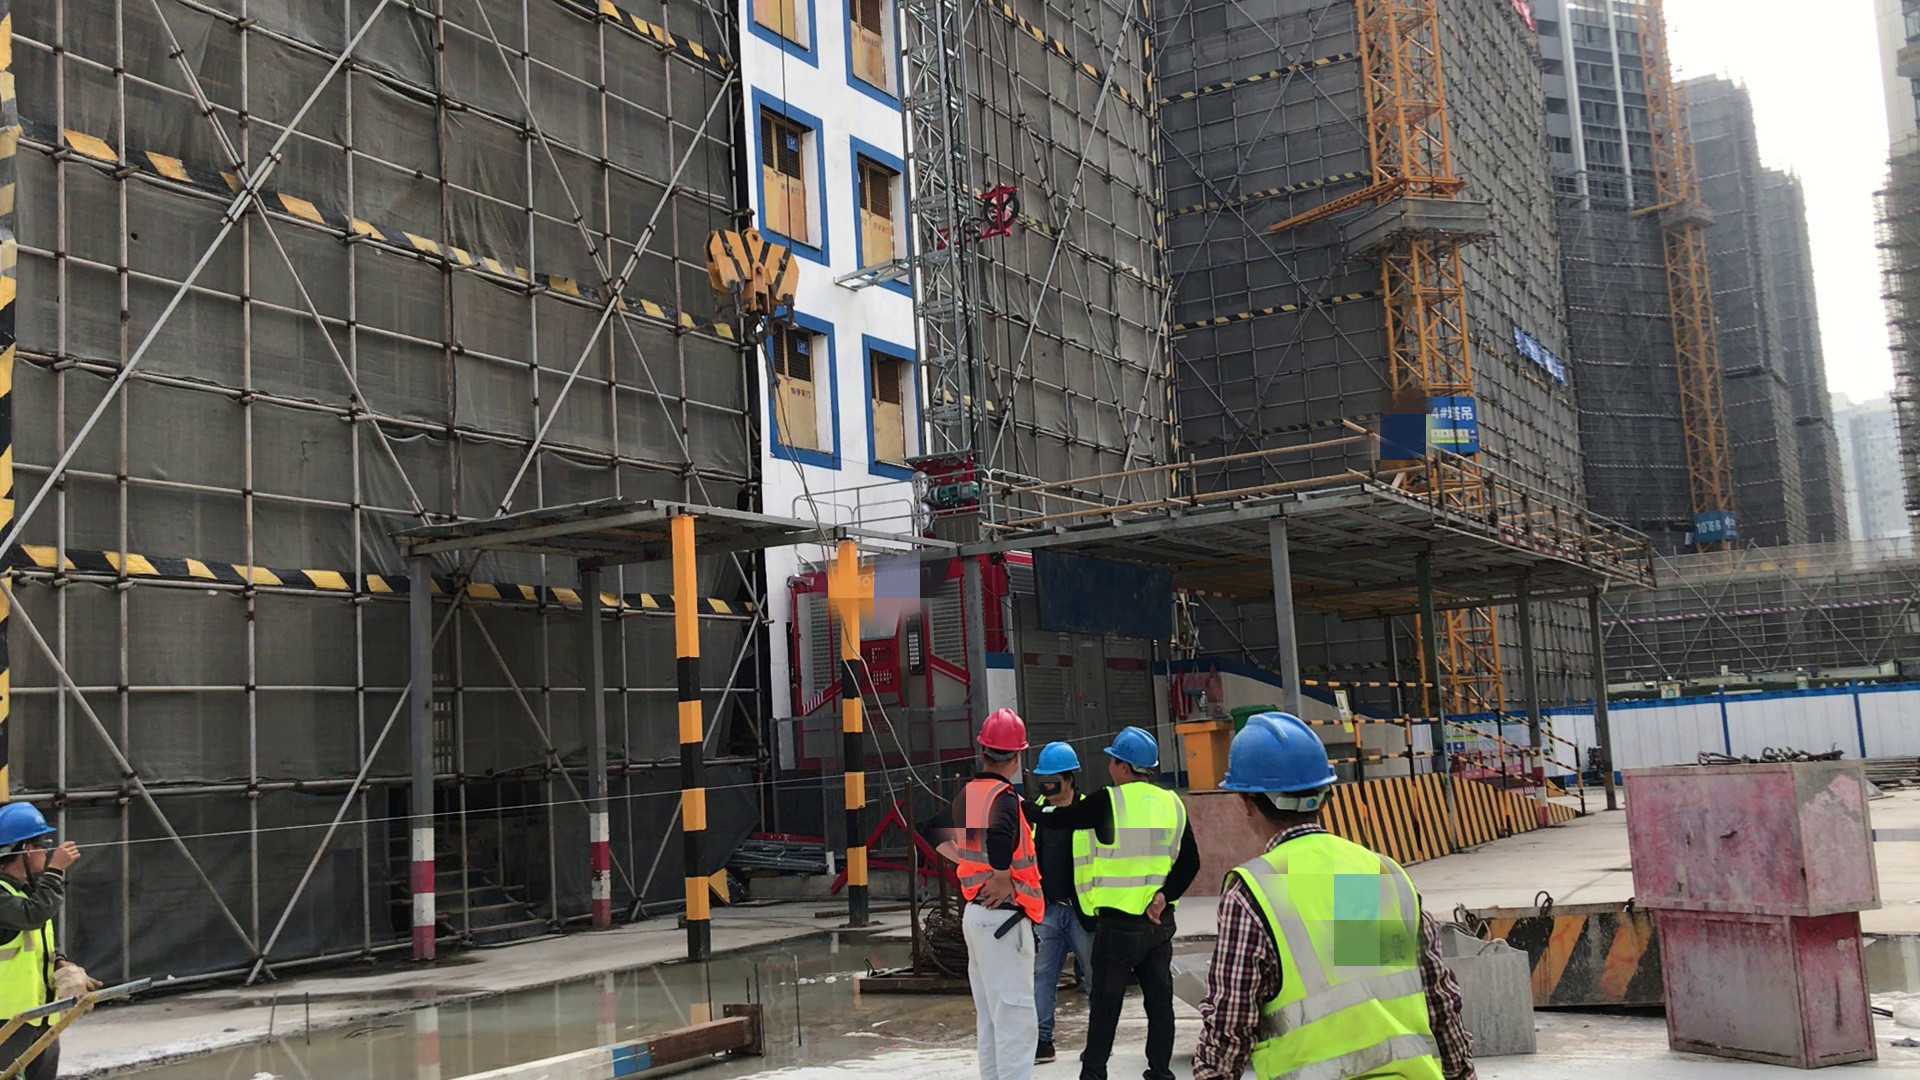fence: (1300, 680, 1739, 844)
helmet: (1222, 719, 1355, 794), (1099, 726, 1167, 780), (1, 804, 63, 849), (977, 711, 1028, 755), (1042, 737, 1084, 784)
hook: (696, 217, 809, 357)
hopper: (1481, 896, 1703, 1021)
person: (1213, 708, 1479, 1080), (1094, 689, 1200, 1080), (944, 706, 1042, 1080), (4, 797, 101, 1080), (1035, 740, 1097, 1071)
slogan: (1500, 316, 1580, 387)
vest: (1218, 830, 1443, 1080), (956, 777, 1042, 939), (1093, 783, 1182, 922), (3, 876, 78, 1037), (1041, 801, 1104, 929)
